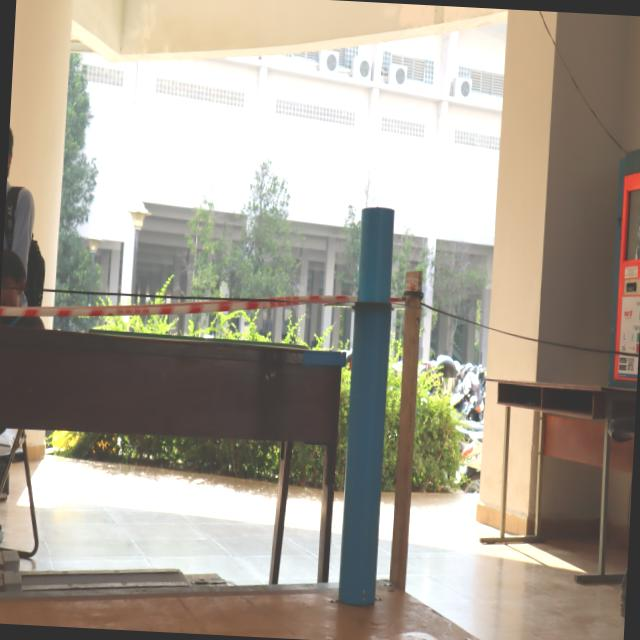pole: (326, 197, 420, 406)
